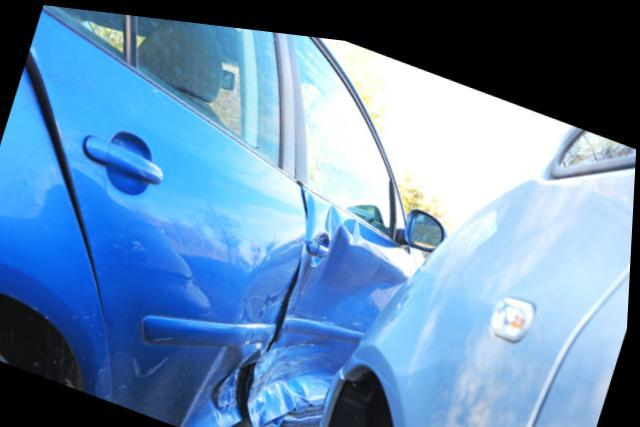dent: (254, 220, 407, 421), (185, 340, 248, 427)
dislocated part: (23, 42, 108, 292)
